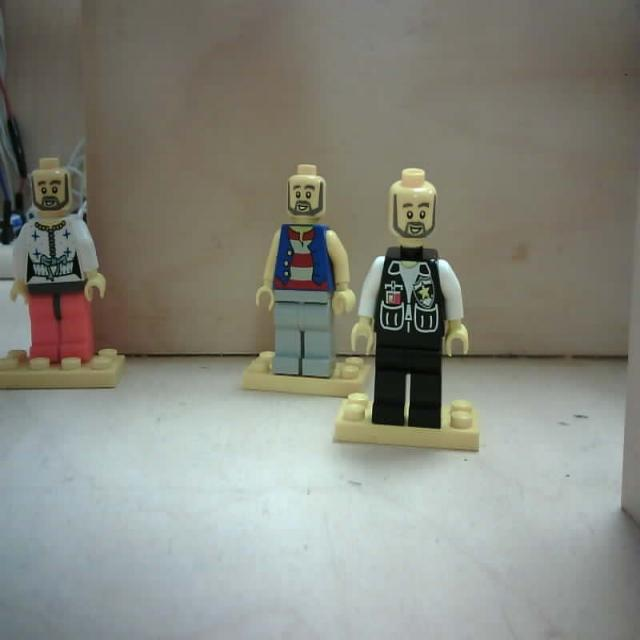Lego-People: (332, 170, 482, 456), (245, 164, 374, 399), (2, 160, 128, 390)
